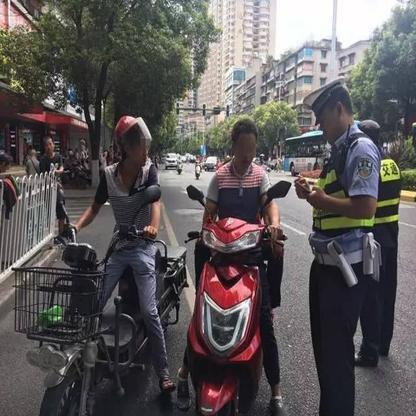target: (178, 115, 291, 411)
